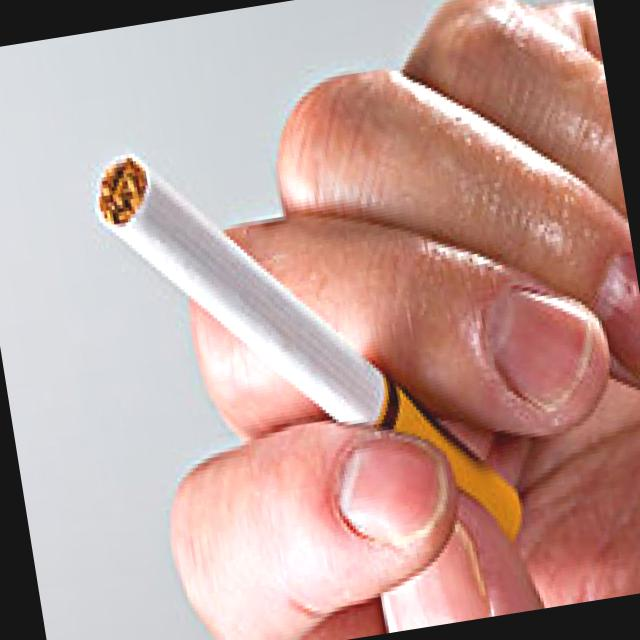smoke: (86, 87, 546, 631)
